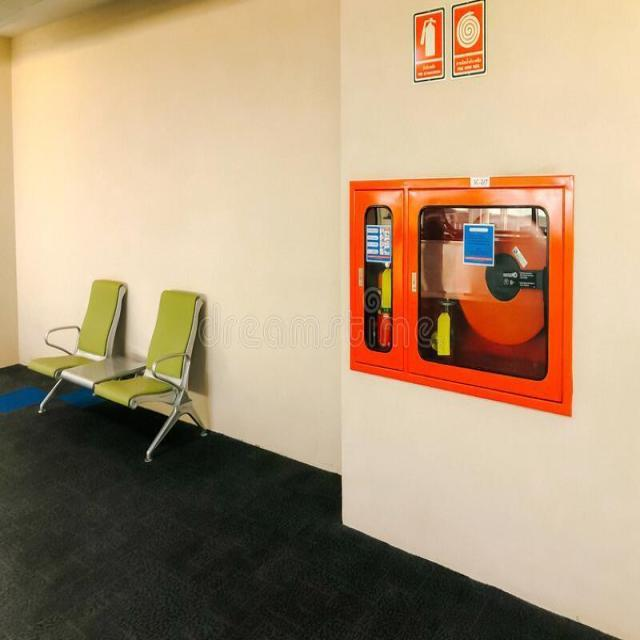fire_extinguisher: (370, 224, 398, 350)
